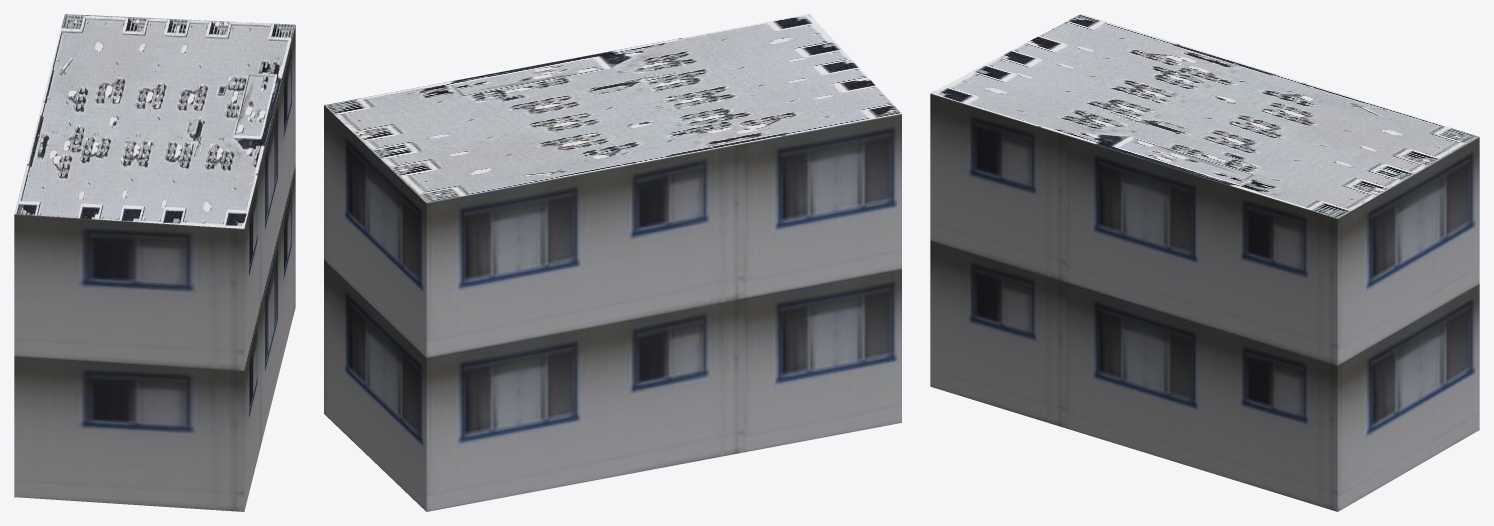
The model's file is ResTex__3121.fbx.
3 renders of one model, left to right at view 1: azimuth 30°, elevation 25°; view 2: azimuth 150°, elevation 25°; view 3: azimuth 270°, elevation 25°, orthographic. The views are drawn at different scales.
Parts seen in each view (by area): view 1: CityEngineMaterial_9_m, CityEngineMaterial_m; view 2: CityEngineMaterial_9_m, CityEngineMaterial_m; view 3: CityEngineMaterial_9_m, CityEngineMaterial_m.
Part boxes in pixels (x1=…): CityEngineMaterial_9_m: x1=14, y1=25, x2=295, y2=511; CityEngineMaterial_m: x1=14, y1=14, x2=295, y2=228; CityEngineMaterial_9_m: x1=324, y1=105, x2=901, y2=511; CityEngineMaterial_m: x1=324, y1=14, x2=901, y2=202; CityEngineMaterial_9_m: x1=930, y1=93, x2=1479, y2=511; CityEngineMaterial_m: x1=930, y1=14, x2=1479, y2=218.
Bounding box in the file's own units: 8.99 × 6 × 10.19.
2 materials, 2 textured.
